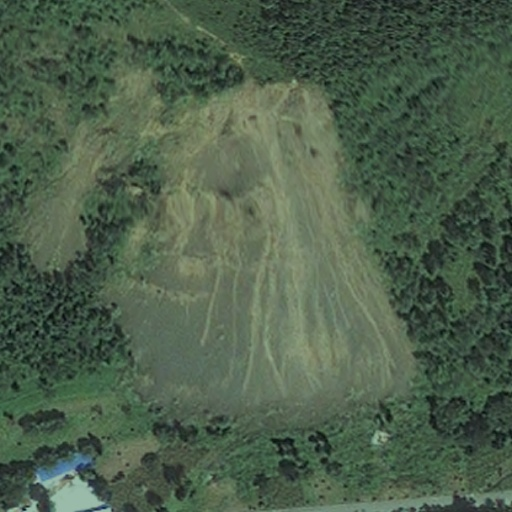landslide: (165, 71, 391, 395)
